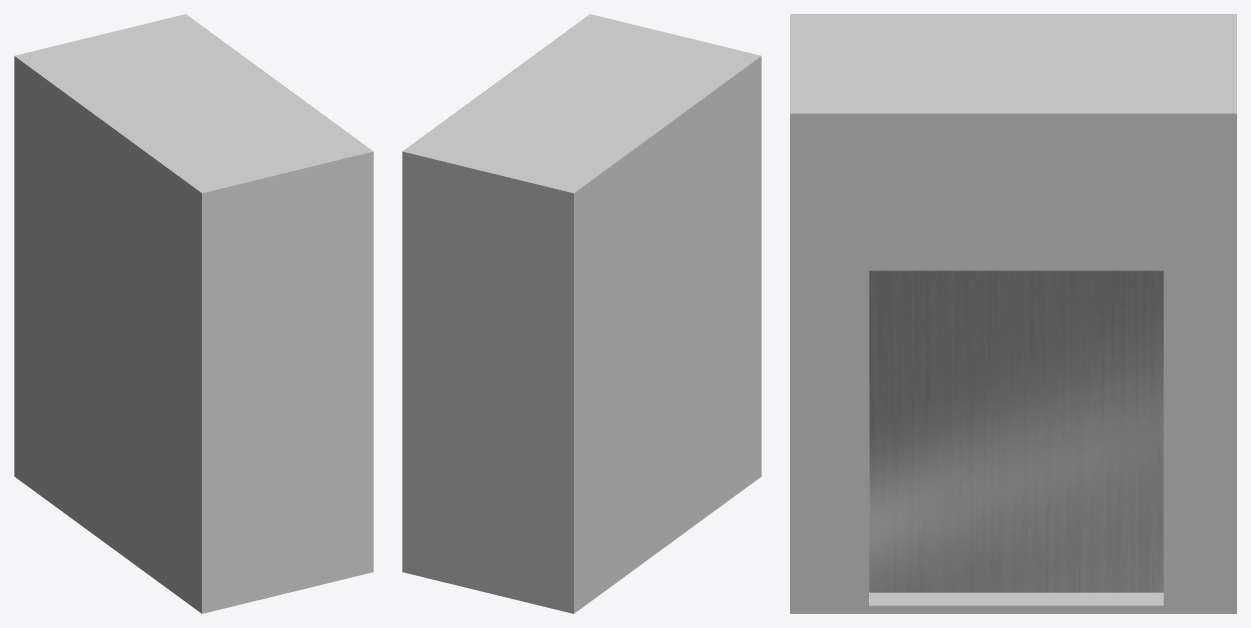
File: lift_new_update.fbx
The picture shows the model from 3 angles, left to right: view 1: azimuth 30°, elevation 25°; view 2: azimuth 150°, elevation 25°; view 3: azimuth 270°, elevation 25°; orthographic projection. The views are drawn at different scales.
Parts seen in each view (by area): view 1: Cube; view 2: Cube; view 3: Cube, Cube.001.
Part boxes in pixels (left/top/right/bottom): Cube: left=14, top=14, right=373, bottom=613; Cube: left=402, top=14, right=761, bottom=613; Cube: left=790, top=14, right=1236, bottom=613; Cube.001: left=869, top=270, right=1163, bottom=592.
Bounding box in the file's own units: 501 × 1174 × 951.
Materials: 2 (1 with a texture image).
